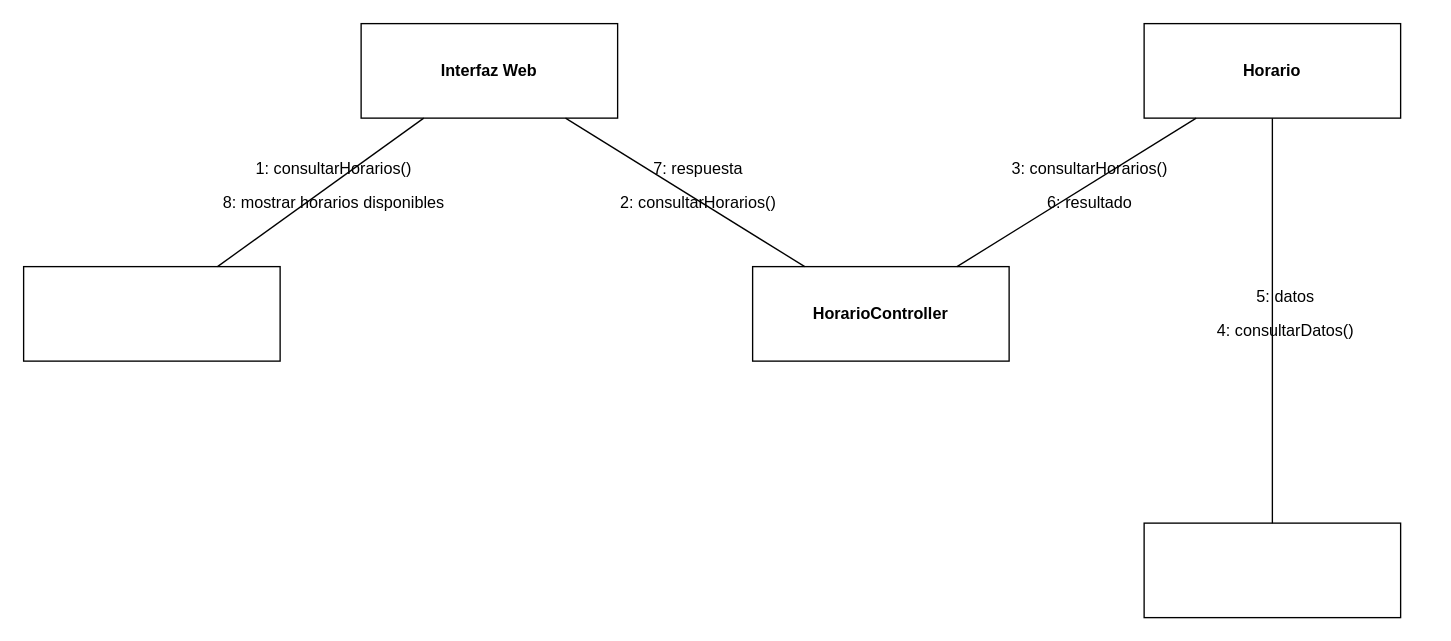
Some shapes in this 1451 by 641 pixel diagram are drawn without their labels. The shapes that lost their labels are listed below. From the top down, each one's box as (x1, y1, x2, y2) in pixels, then its label:
(22, 265, 280, 361): Usuario Final
(1143, 522, 1401, 618): Supabase/PostgreSQL
